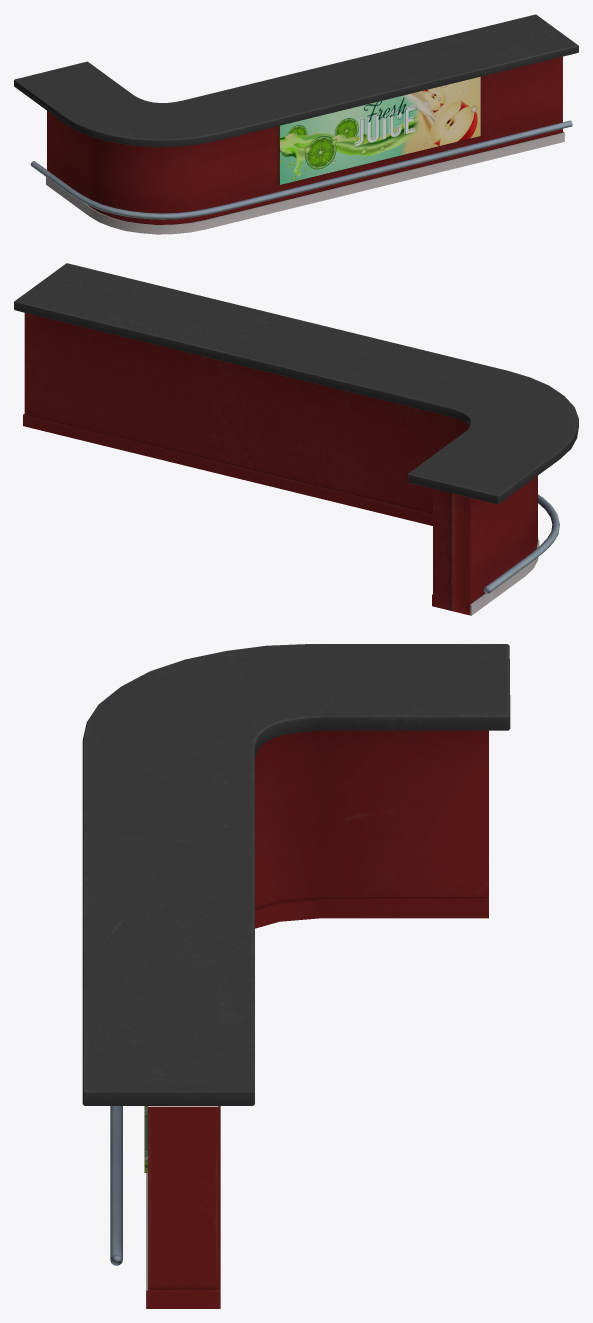
Rendered from Counter1.fbx.
3 views of the same model, one above another, from view 1: azimuth 30°, elevation 25°; view 2: azimuth 150°, elevation 25°; view 3: azimuth 270°, elevation 25° (orthographic). The views are drawn at different scales.
Parts seen in each view (by area): view 1: Counter1; view 2: Counter1; view 3: Counter1.
Boxes of the visible parts, x1=… form: Counter1: x1=14, y1=14, x2=578, y2=234; Counter1: x1=14, y1=263, x2=578, y2=615; Counter1: x1=82, y1=644, x2=510, y2=1308.
Size of the model in its own units: 407 by 91.56 by 164.
